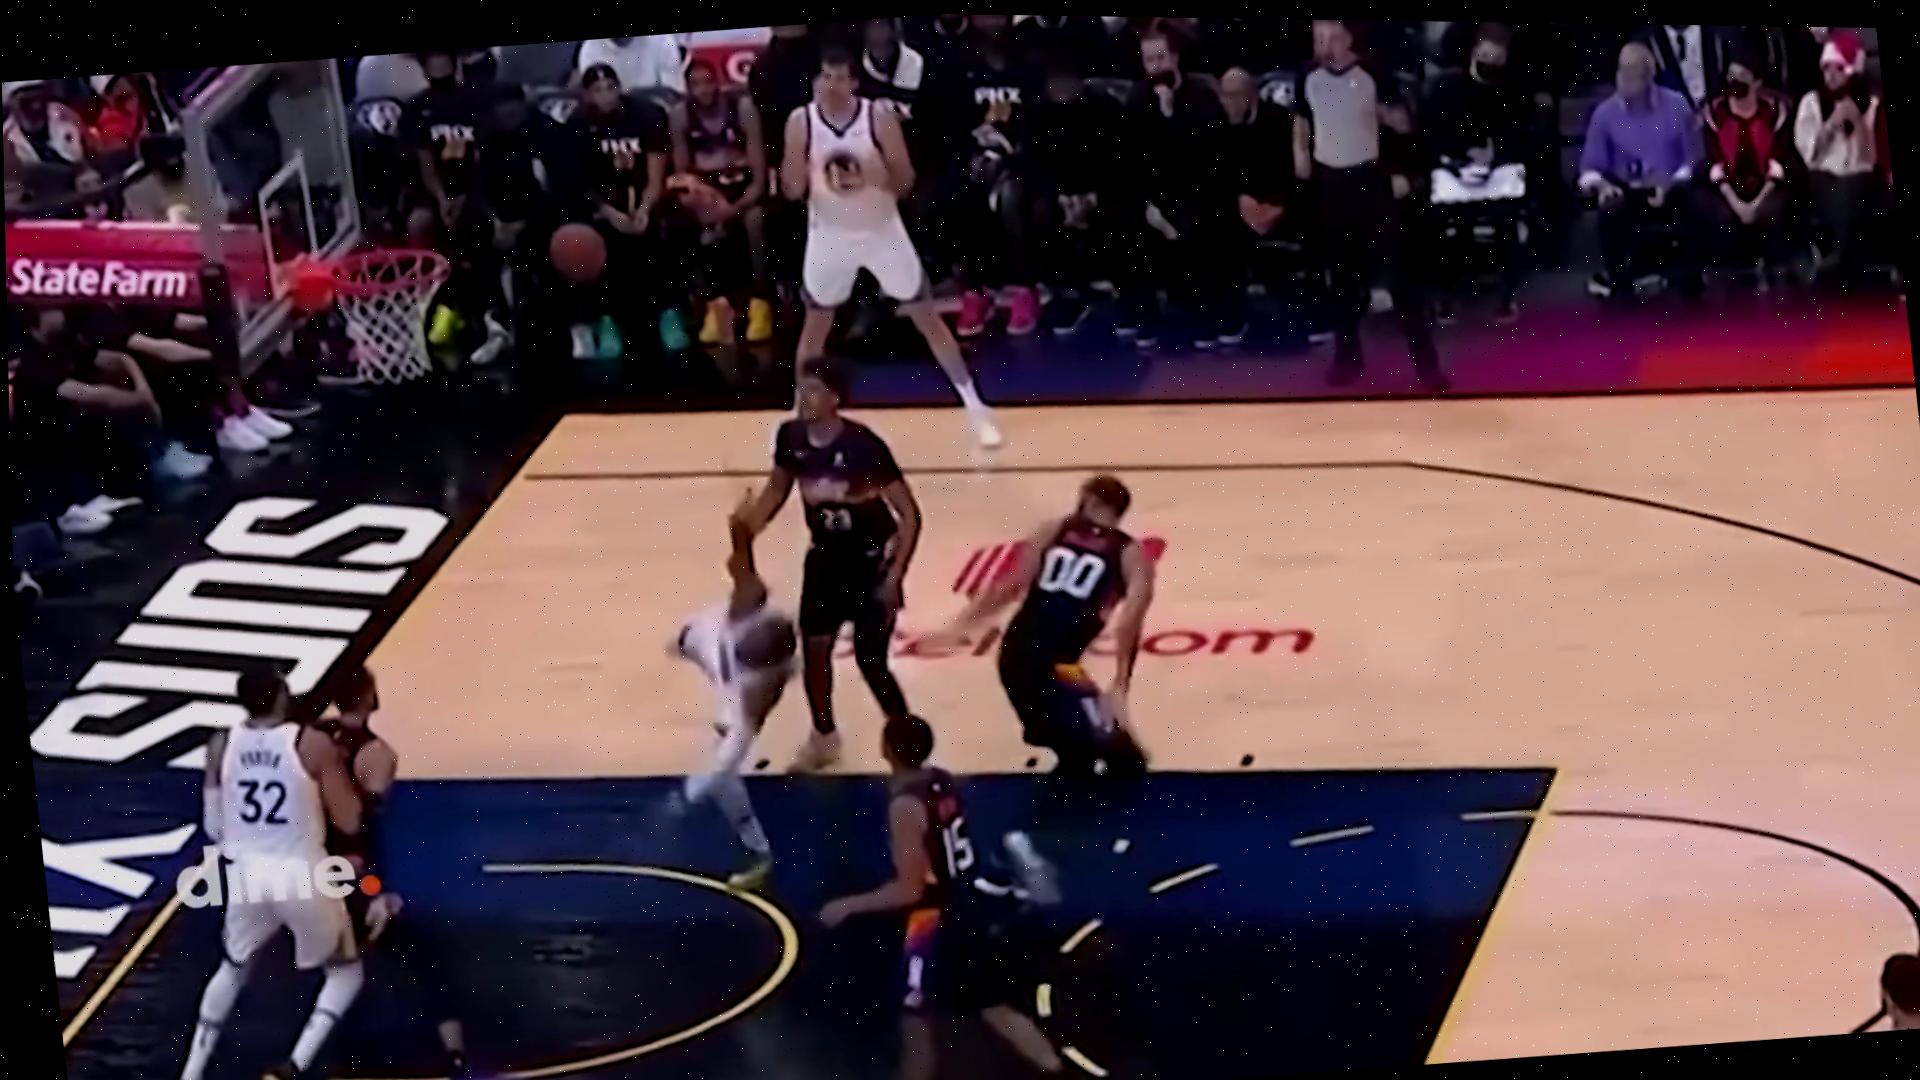no_foul: (560, 293, 1207, 915)
